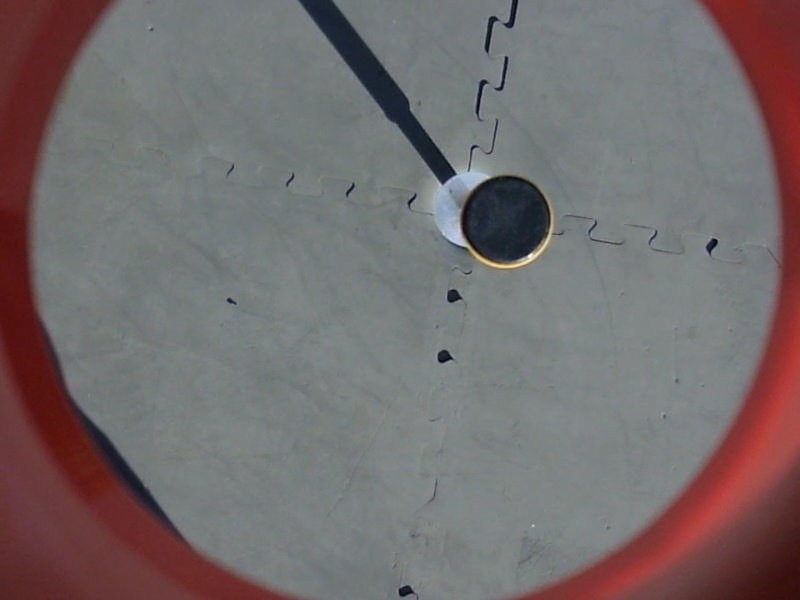tip: (459, 175, 564, 271)
